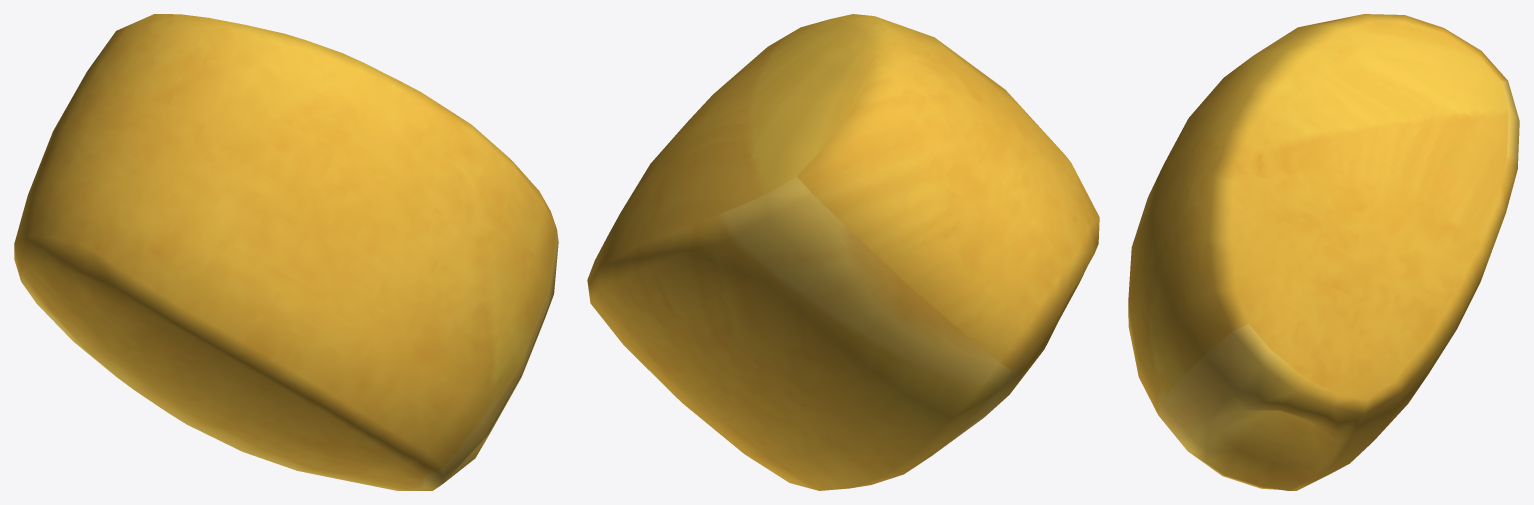
Rendered from ref_bffriedsteamedbun.fbx.
3 views of the same model, side by side, from view 1: azimuth 30°, elevation 25°; view 2: azimuth 150°, elevation 25°; view 3: azimuth 270°, elevation 25° (orthographic). The views are drawn at different scales.
Parts seen in each view (by area): view 1: ref_bffriedsteamedbun; view 2: ref_bffriedsteamedbun; view 3: ref_bffriedsteamedbun.
Part boxes in pixels (left/top/right/bottom): ref_bffriedsteamedbun: left=14, top=14, right=558, bottom=490; ref_bffriedsteamedbun: left=587, top=14, right=1099, bottom=490; ref_bffriedsteamedbun: left=1128, top=14, right=1519, bottom=490.
Size of the model in its own units: 100 by 93.66 by 80.54.
